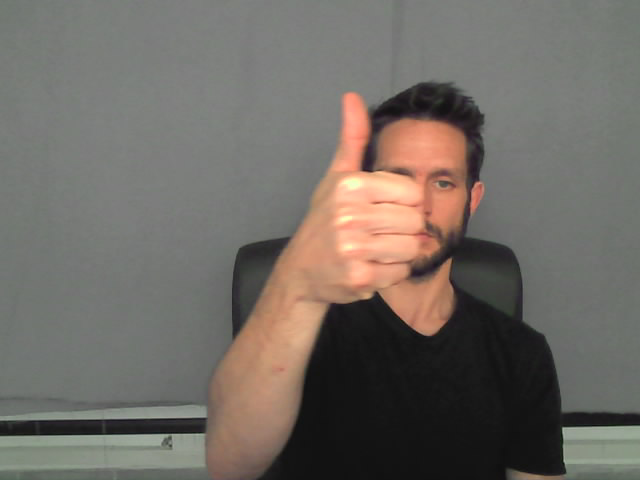thumbsup: (289, 90, 423, 304)
